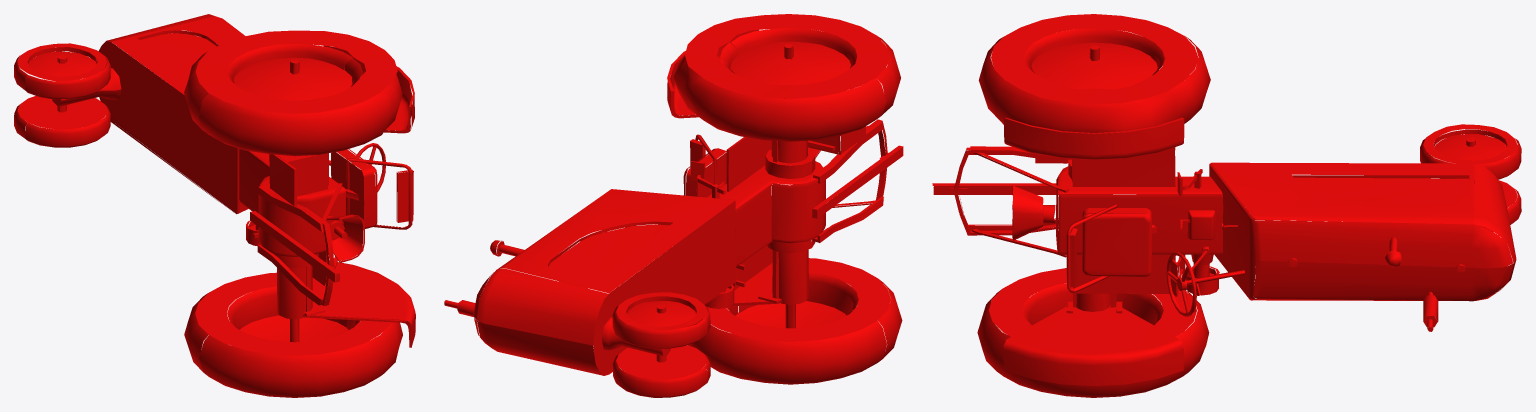
3 renders of one model, left to right at view 1: azimuth 30°, elevation 25°; view 2: azimuth 150°, elevation 25°; view 3: azimuth 270°, elevation 25°, orthographic. The views are drawn at different scales.
Visible parts, largest first — view 1: Renderer Node; view 2: Renderer Node; view 3: Renderer Node.
Part boxes in pixels (x1,y1,x2,y2): Renderer Node: [14, 14, 415, 397]; Renderer Node: [444, 14, 903, 397]; Renderer Node: [932, 14, 1521, 397].
Bounding box in the file's own units: 1.16 × 1.22 × 2.04.
1 material, 1 textured.
